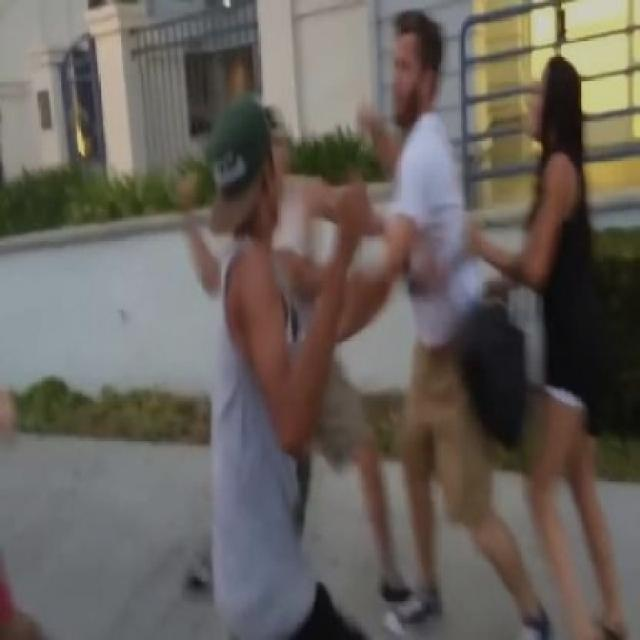fight: (177, 0, 553, 638)
non-fight: (479, 24, 638, 638)
